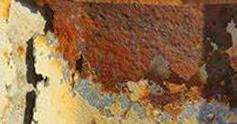rust: (35, 1, 237, 107)
